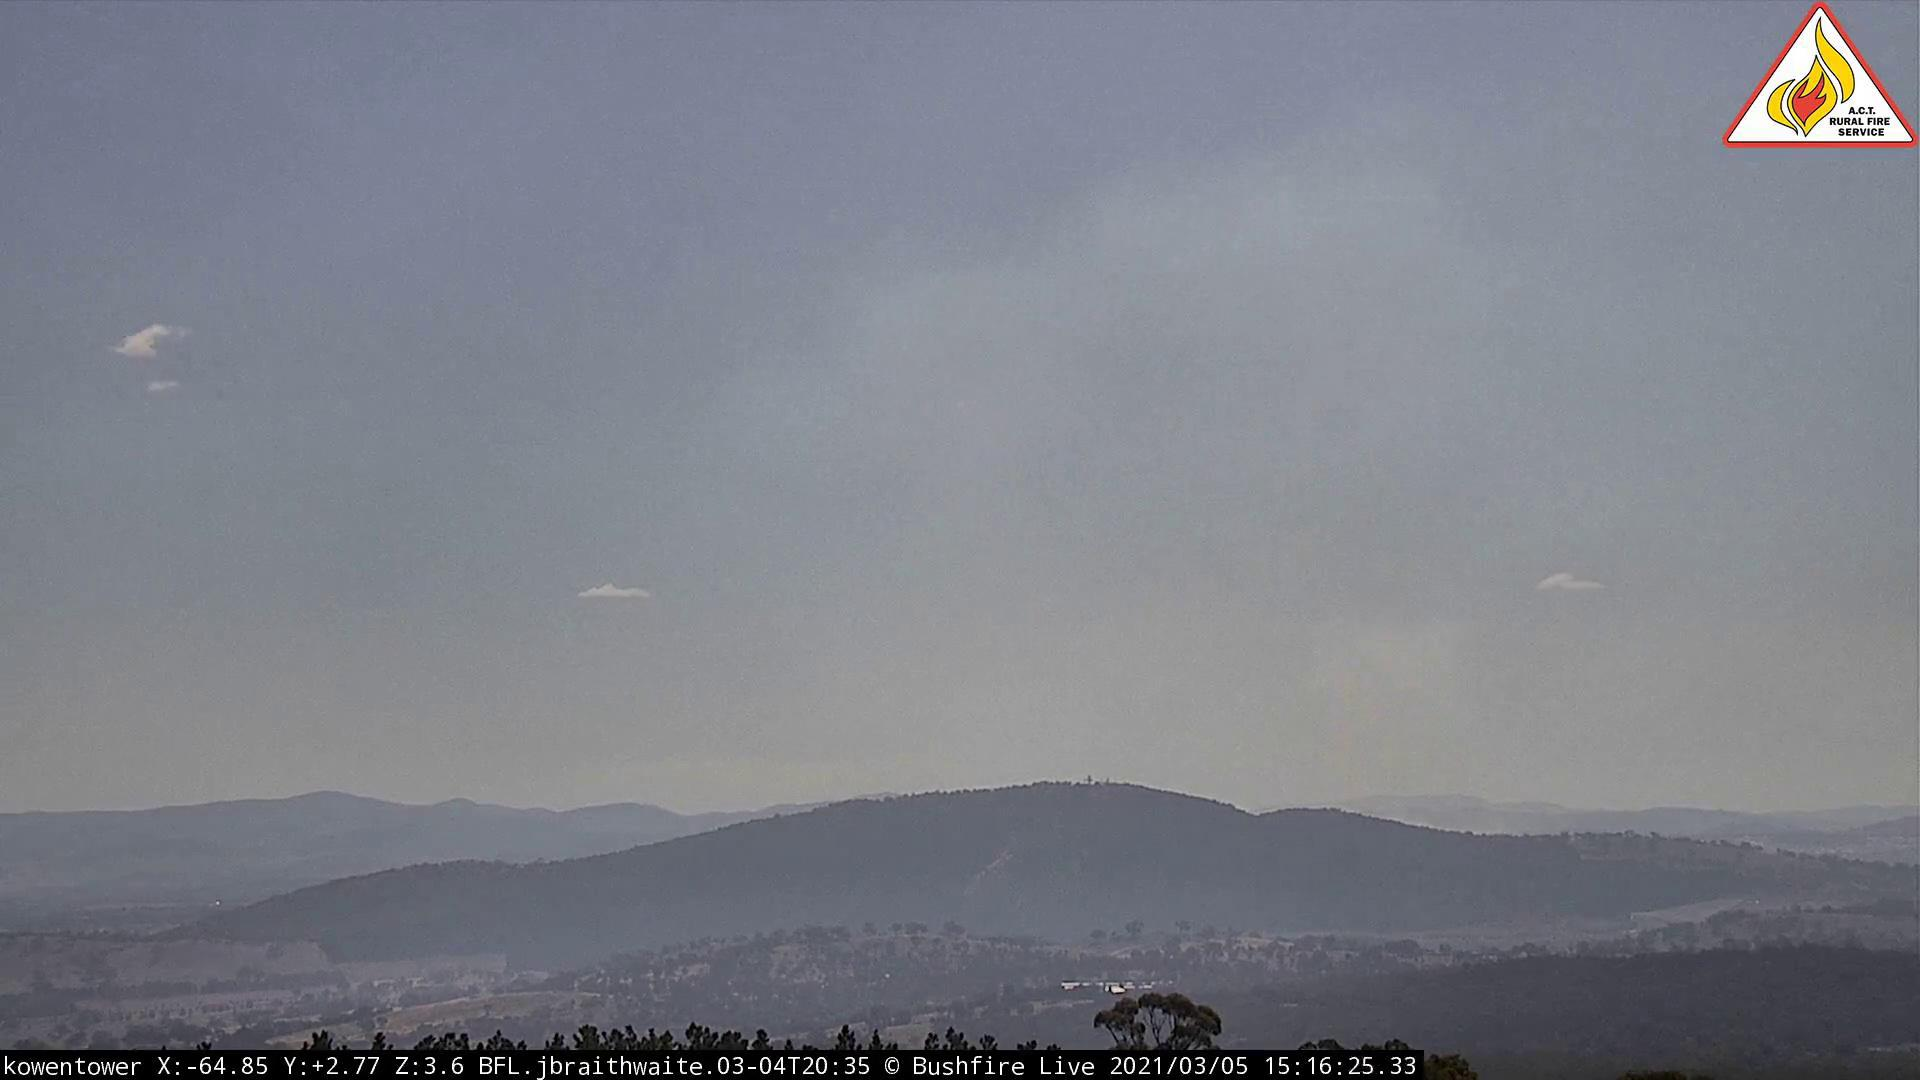Smoke: (1191, 520, 1526, 851)
